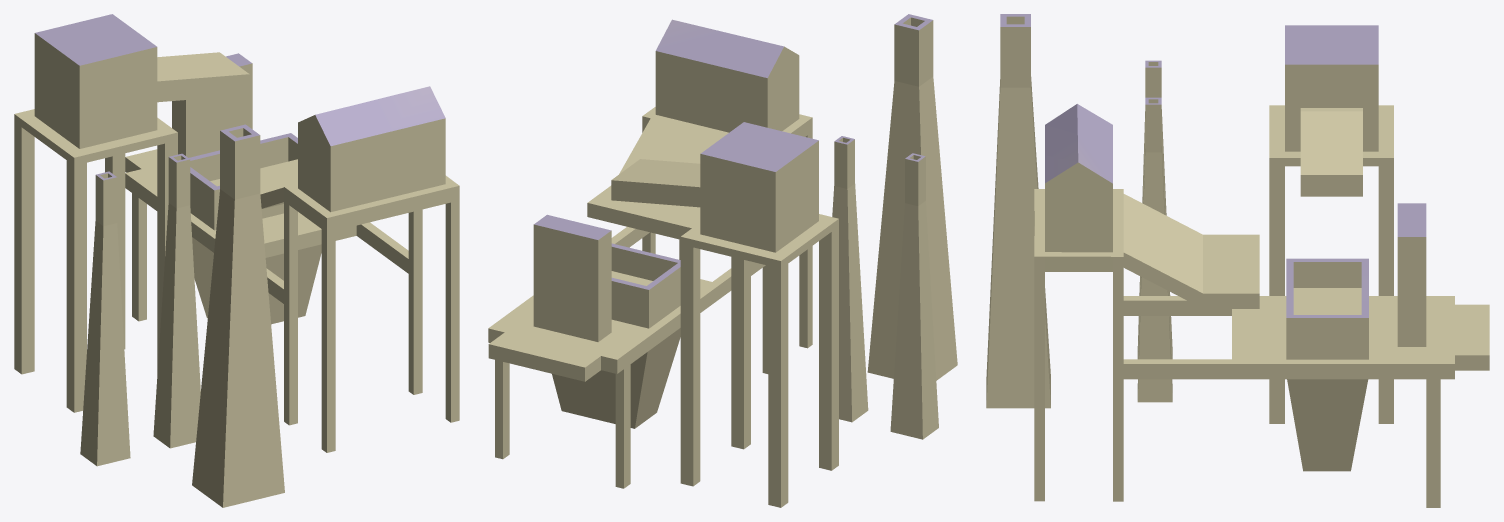
Rendered from sorting_center.glb.
The picture shows the model from 3 angles, left to right: view 1: azimuth 30°, elevation 25°; view 2: azimuth 150°, elevation 25°; view 3: azimuth 270°, elevation 25°; orthographic projection. The views are drawn at different scales.
Visible parts, largest first — view 1: Cylinder.070; view 2: Cylinder.070; view 3: Cylinder.070.
Boxes of the visible parts, <box> form: Cylinder.070: <box>14,14,459,507</box>; Cylinder.070: <box>488,14,957,507</box>; Cylinder.070: <box>986,14,1489,507</box>.
Size of the model in its own units: 1.32 by 1.44 by 1.76.
